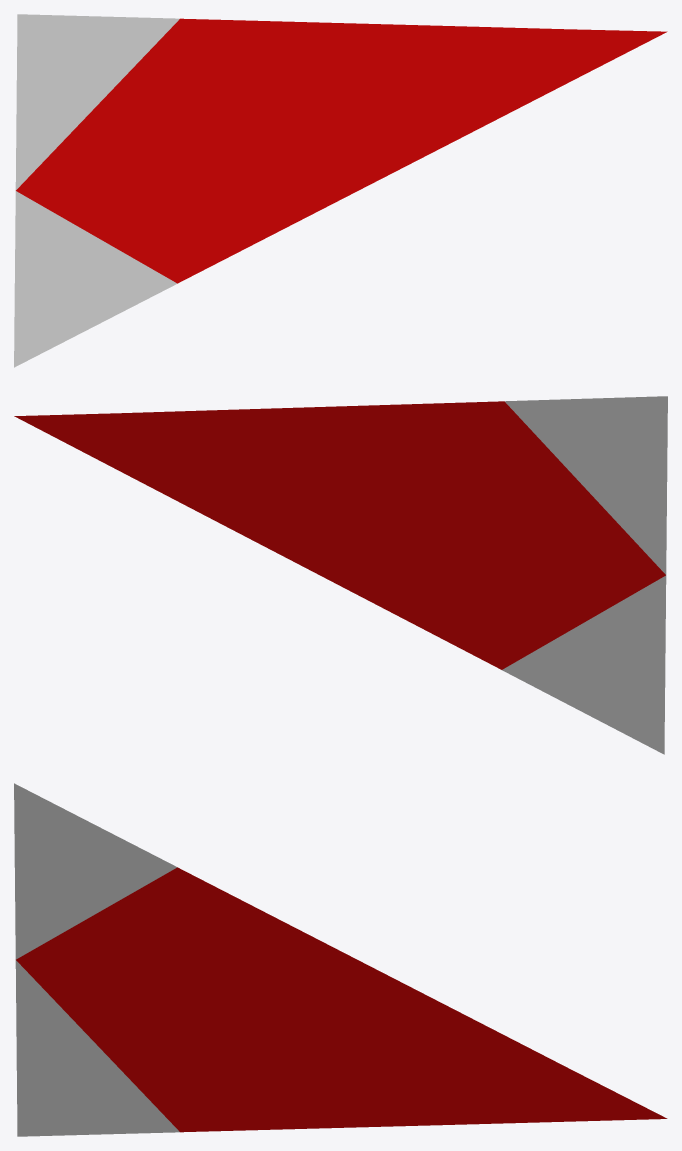
File: Flag.dae
3 renders of one model, top to bottom at view 1: azimuth 30°, elevation 25°; view 2: azimuth 150°, elevation 25°; view 3: azimuth 330°, elevation 25°, orthographic.
Parts seen in each view (by area): view 1: Mesh0_VC, Mesh1_VC, Mesh2_VC, Mesh3_VC, Mesh4_VC; view 2: Mesh0_VC, Mesh1_VC, Mesh2_VC, Mesh3_VC, Mesh4_VC; view 3: Mesh0_VC, Mesh1_VC, Mesh2_VC, Mesh3_VC, Mesh4_VC.
Part boxes in pixels (box(x1,y1,x2,y2)): Mesh0_VC: box(14, 14, 180, 367); Mesh1_VC: box(177, 18, 342, 283); Mesh2_VC: box(341, 23, 464, 199); Mesh3_VC: box(463, 26, 566, 136); Mesh4_VC: box(566, 29, 667, 83); Mesh0_VC: box(501, 396, 667, 754); Mesh1_VC: box(339, 401, 504, 669); Mesh2_VC: box(217, 406, 340, 584); Mesh3_VC: box(115, 410, 218, 521); Mesh4_VC: box(14, 413, 115, 468); Mesh0_VC: box(14, 783, 180, 1136); Mesh1_VC: box(177, 867, 342, 1132); Mesh2_VC: box(341, 951, 464, 1127); Mesh3_VC: box(463, 1014, 566, 1124); Mesh4_VC: box(566, 1067, 667, 1121).
Bounding box in the file's own units: 689 × 360 × 6.38.
1 material, 1 textured.
